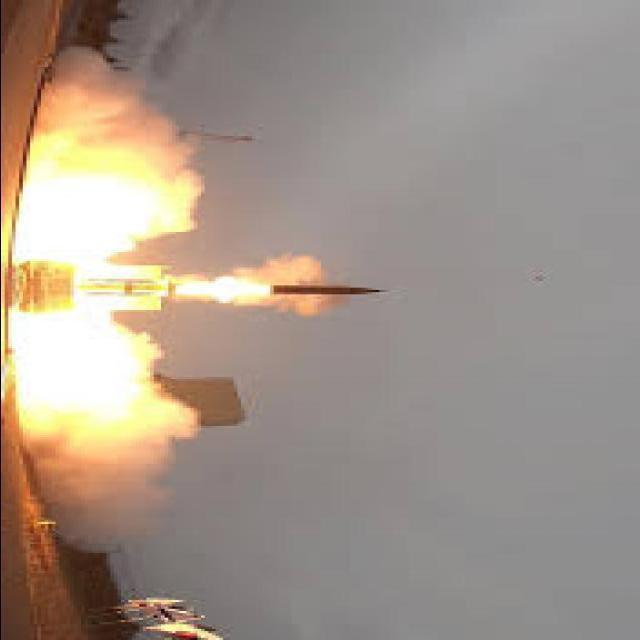missile: (264, 270, 387, 311)
